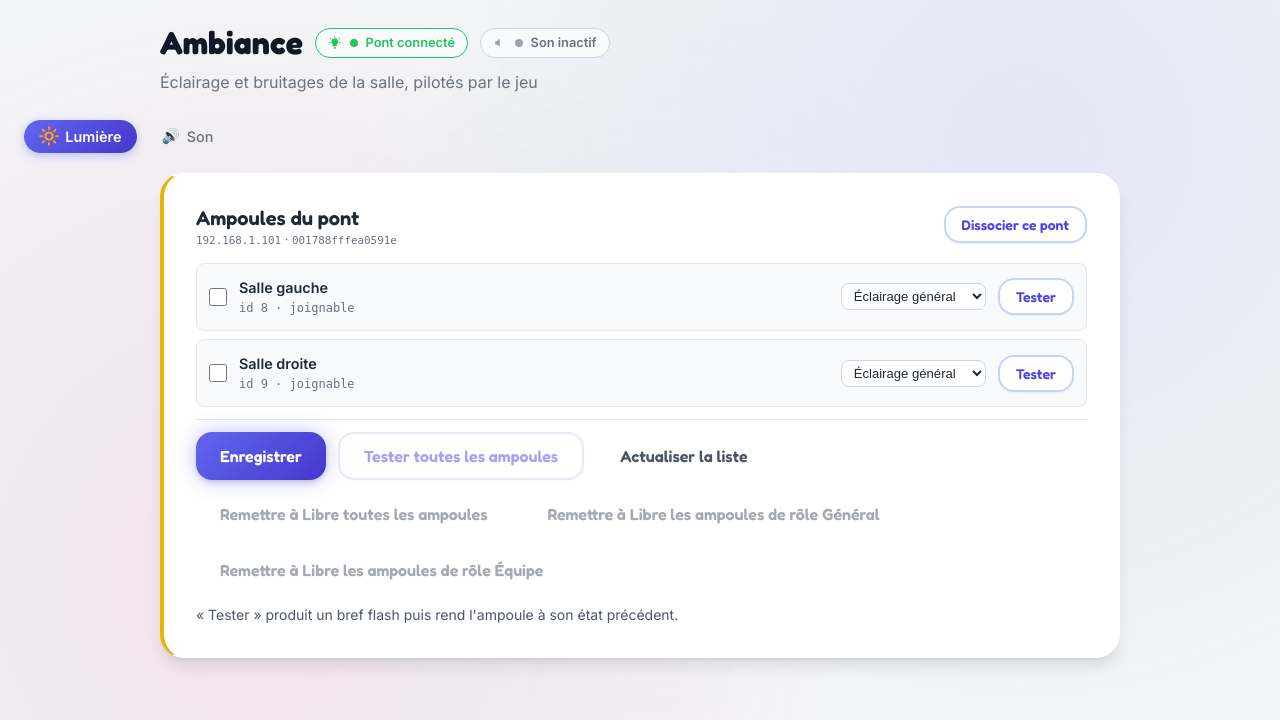
Test: AmbiancePage — #213 rôle par ampoule › « Enregistrer » persiste le rôle équipe choisi, sans toucher aux ampoules non modifiées
expect the text "Salle gauche" is shown: met, box [239,279,328,296]
Click the checkbox labelled "Salle gauche" at x=218, y=297, box [209,288,227,306]
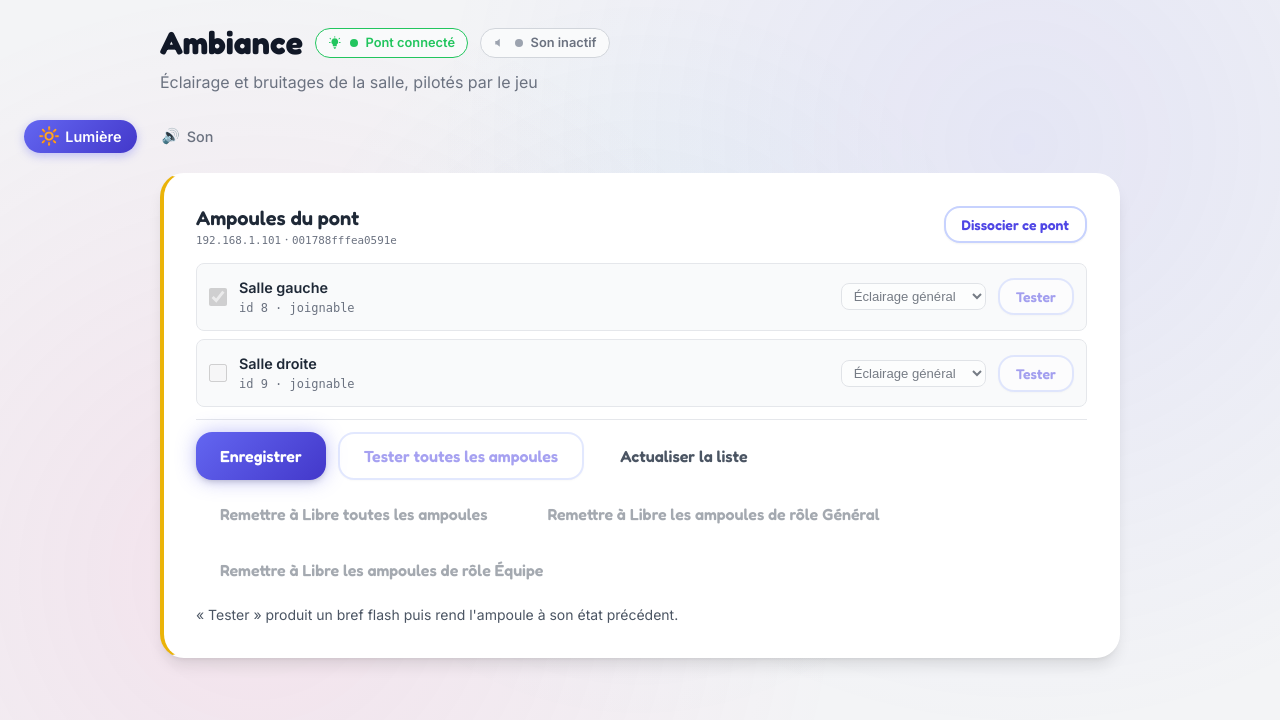
Click the checkbox labelled "Salle droite" at x=218, y=373, box [209,364,227,382]
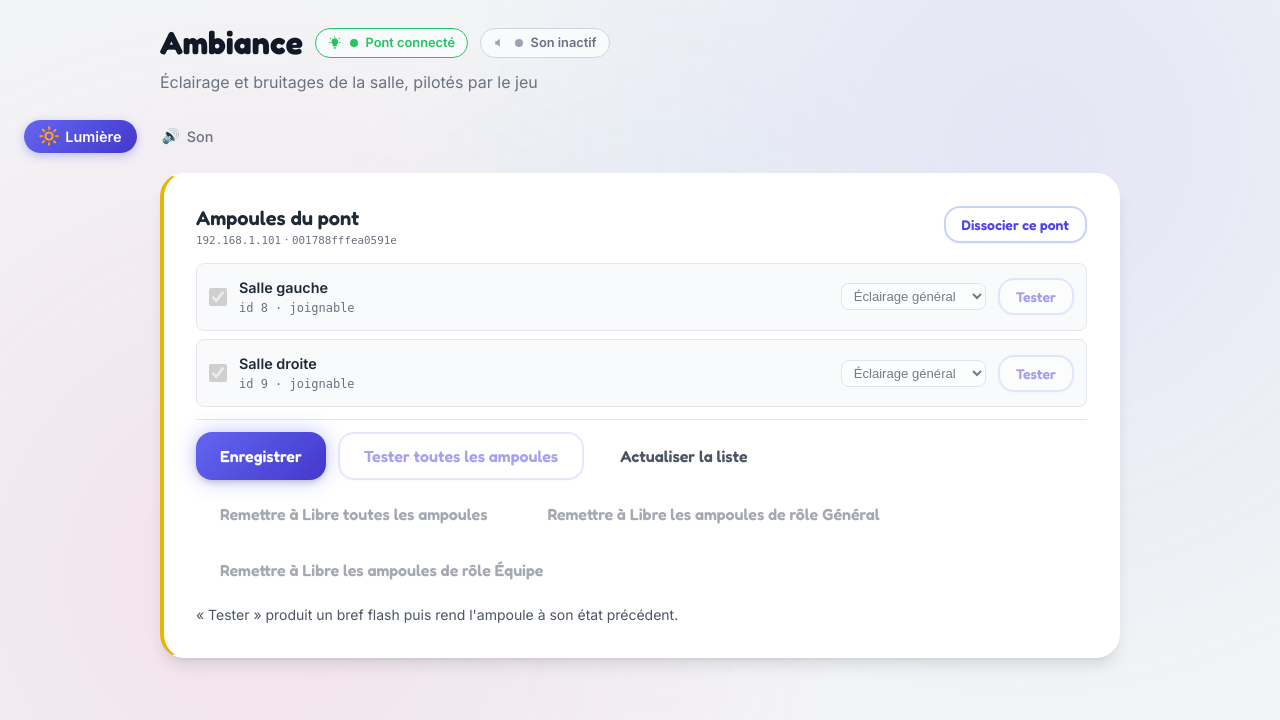
Select "Équipe — Rouges" in the dropdown named "Rôle de Salle gauche" at x=913, y=297, box [841,283,986,310]
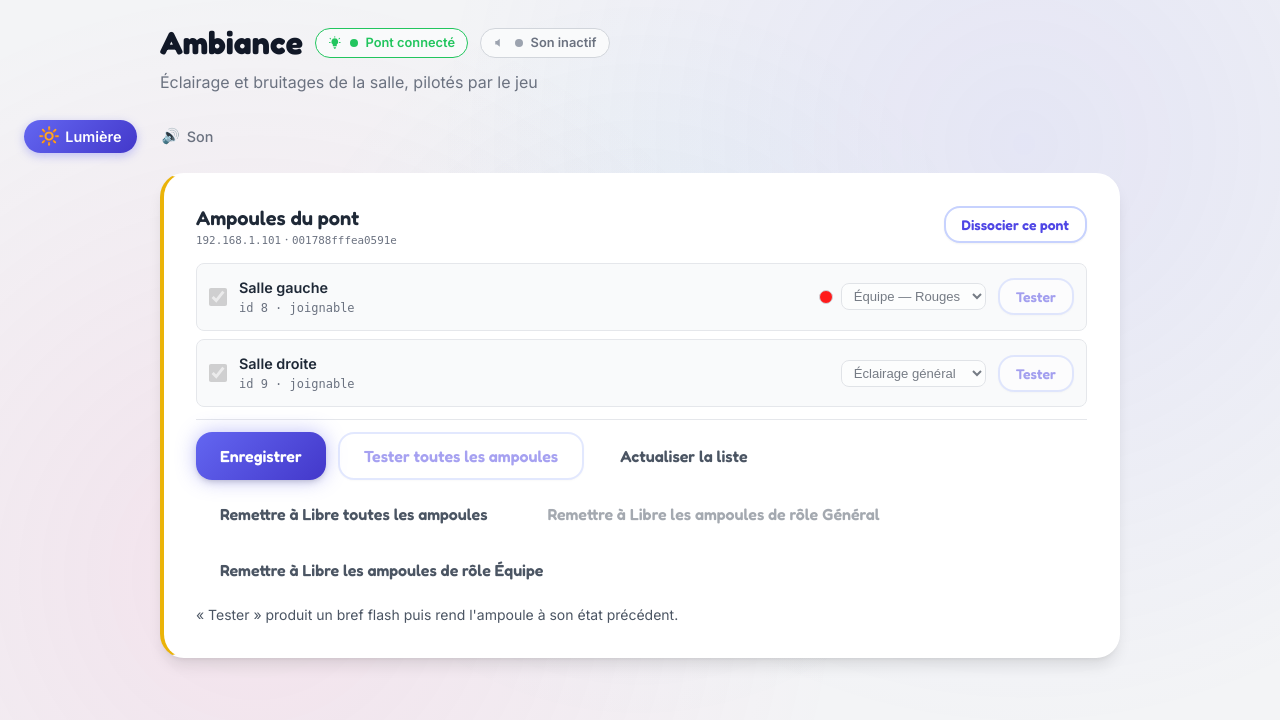
Click the button "Enregistrer" at x=261, y=456, box [196,432,326,480]
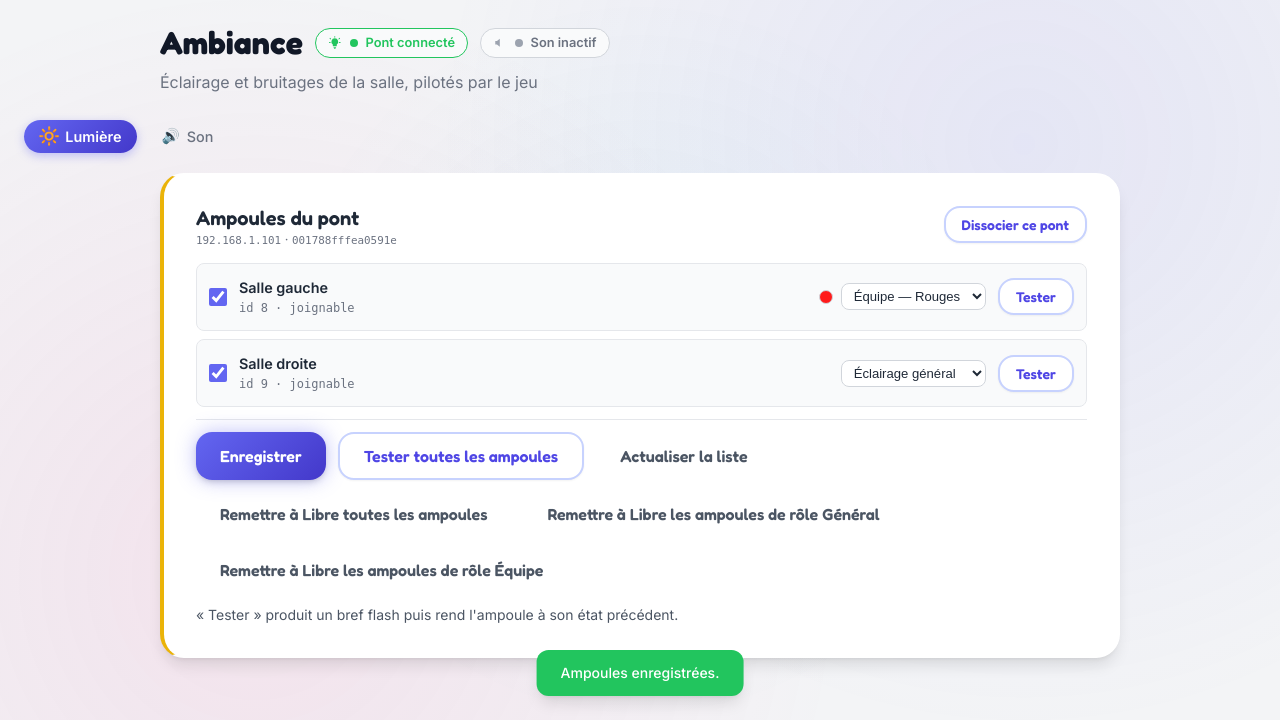
expect the text "Ampoules enregistrées." is shown: met, box [537,650,743,696]
